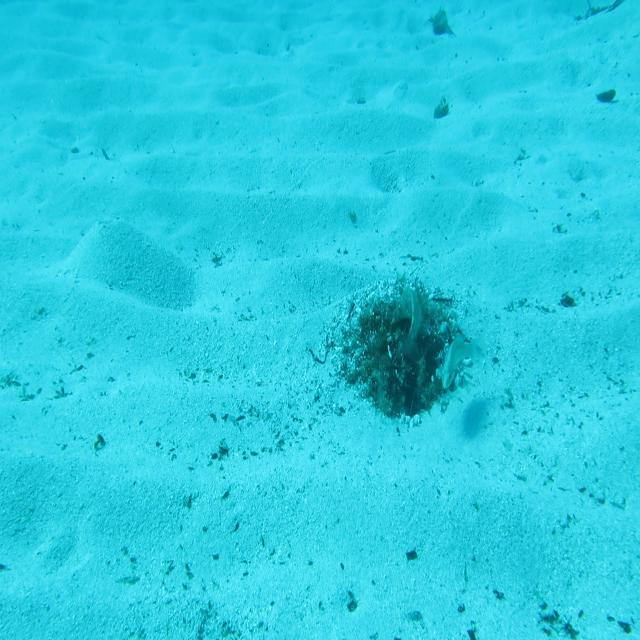NIP_CORE: (394, 279, 424, 365)
female: (440, 330, 488, 396)
nest: (354, 277, 469, 419)
